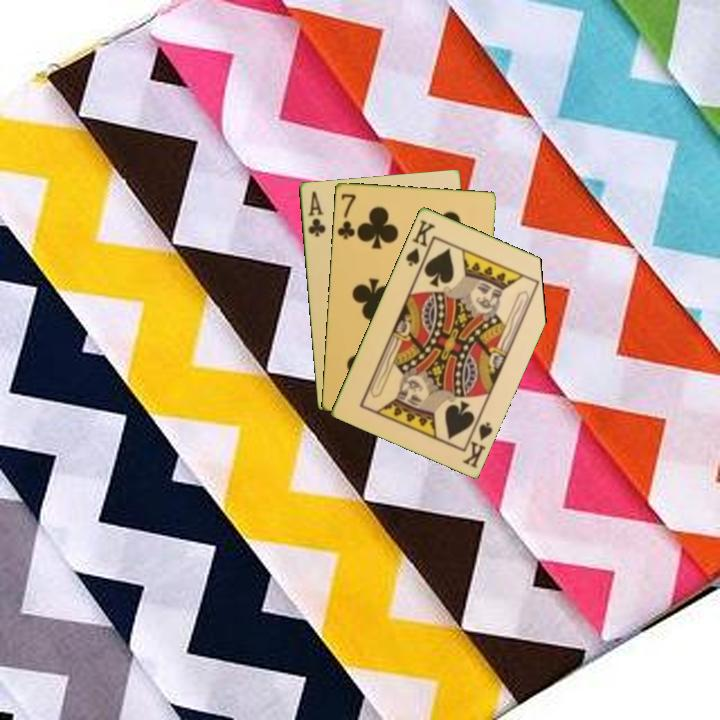7c: (334, 190, 358, 242)
Ac: (304, 187, 328, 240)
Ks: (459, 412, 495, 471), (402, 216, 438, 272)
